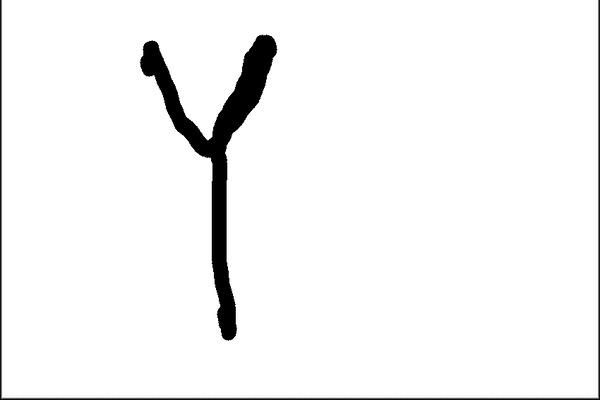Y: (130, 30, 287, 354)
